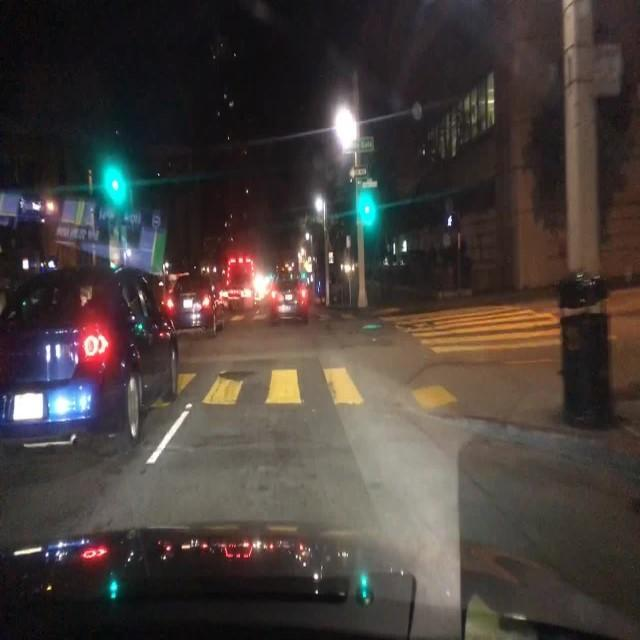normal: (4, 261, 187, 454), (165, 271, 224, 336), (273, 285, 310, 322)
